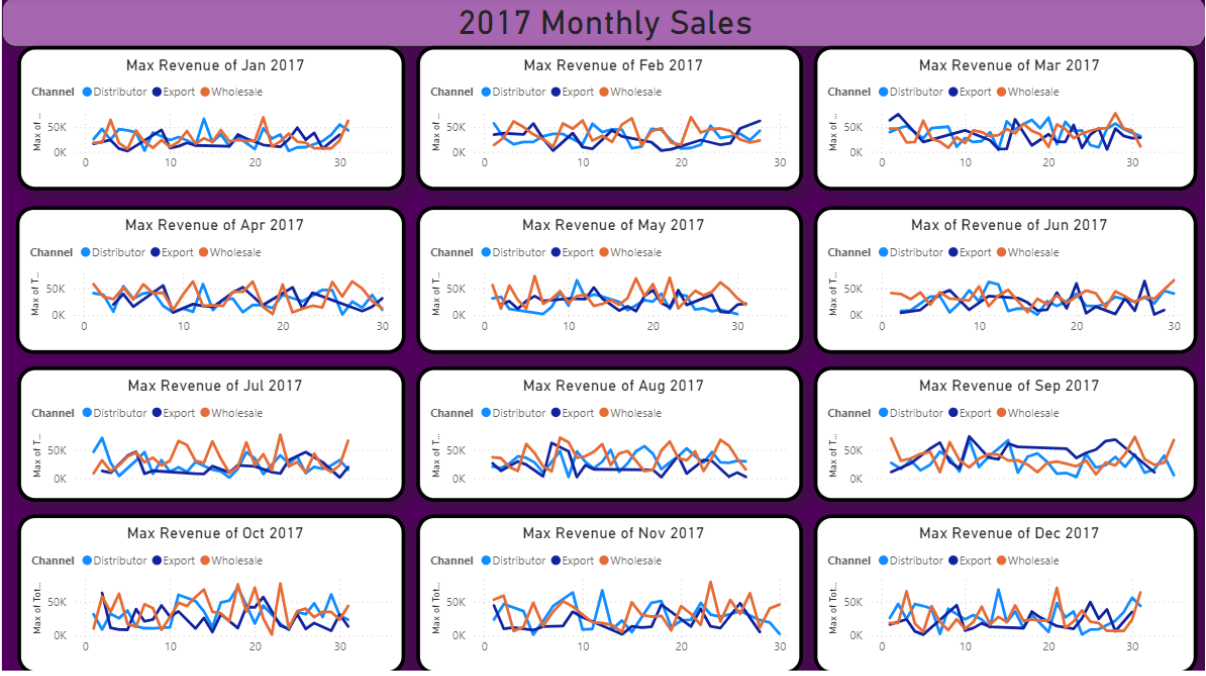

The dashboard page shown, as its layout file describes it:
{"tool":"powerbi","page":{"name":"Page 3","canvas":[1280,720],"ordinal":2},"visuals":[{"type":"textbox","title":"2017 Monthly Sales","box":[0,0,1279.4,52.9],"z":0},{"type":"lineChart","title":"Max Revenue of Mar 2017","fields":{"Series":["Sales2017_Mar.Channel"],"Category":["Sales2017_Mar.OrderDate.Variation.Date Hierarchy.Day"],"Y":["Max(Sales2017_Mar.Total Revenue)"]},"box":[861.9,52.3,407.2,153.7],"z":1000},{"type":"lineChart","title":"Max Revenue of Feb 2017","fields":{"Category":["Sales2017_Feb.OrderDate.Variation.Date Hierarchy.Day"],"Y":["Max(Sales2017_Feb.Total Revenue)"],"Series":["Sales2017_Feb.Channel"]},"box":[439.9,52.3,410.5,153.7],"z":2000},{"type":"lineChart","title":"Max Revenue of Jan 2017","fields":{"Category":["Sales2017_Jan.OrderDate.Variation.Date Hierarchy.Day"],"Y":["Max(Sales2017_Jan.Total Revenue)"],"Series":["Sales2017_Jan.Channel"]},"box":[16.4,52.3,412.1,153.7],"z":3000},{"type":"lineChart","title":"Max Revenue of Apr 2017","fields":{"Series":["Sales2017_Apr.Channel"],"Y":["Max(Sales2017_Apr.Total Revenue)"],"Category":["Sales2017_Apr.OrderDate.Variation.Date Hierarchy.Day"]},"box":[14.7,222.4,413.8,157],"z":4000},{"type":"lineChart","title":"Max Revenue of May 2017","fields":{"Series":["Sales2017_May.Channel"],"Y":["Max(Sales2017_May.Total Revenue)"],"Category":["Sales2017_May.OrderDate.Variation.Date Hierarchy.Day"]},"box":[439.9,222.4,410.5,157],"z":5000},{"type":"lineChart","title":"Max of Revenue of Jun 2017","fields":{"Series":["Sales2017_Jun.Channel"],"Y":["Max(Sales2017_Jun.Total Revenue)"],"Category":["Sales2017_Jun.OrderDate.Variation.Date Hierarchy.Day"]},"box":[861.9,222.4,407.2,157],"z":6000},{"type":"lineChart","title":"Max Revenue of Jul 2017","fields":{"Series":["Sales2017_Jul.Channel"],"Y":["Max(Sales2017_Jul.Total Revenue)"],"Category":["Sales2017_Jul.OrderDate.Variation.Date Hierarchy.Day"]},"box":[16.4,392.5,412.1,143.9],"z":7000},{"type":"lineChart","title":"Max Revenue of Aug 2017","fields":{"Category":["Sales2017_Aug.OrderDate.Variation.Date Hierarchy.Day"],"Y":["Max(Sales2017_Aug.Total Revenue)"],"Series":["Sales2017_Aug.Channel"]},"box":[439.9,392.5,410.5,143.9],"z":8000},{"type":"lineChart","title":"Max Revenue of Sep 2017","fields":{"Series":["Sales2017_Sep.Channel"],"Y":["Max(Sales2017_Sep.Total Revenue)"],"Category":["Sales2017_Sep.OrderDate.Variation.Date Hierarchy.Day"]},"box":[861.9,392.5,407.2,143.9],"z":9000},{"type":"lineChart","title":"Max Revenue of Oct 2017","fields":{"Series":["Sales2017_Oct.Channel"],"Y":["Max(Sales2017_Oct.Total Revenue)"],"Category":["Sales2017_Oct.OrderDate.Variation.Date Hierarchy.Day"]},"box":[16.4,549.5,412.1,170.1],"z":10000},{"type":"lineChart","title":"Max Revenue of Nov 2017","fields":{"Category":["Sales2017_Nov.OrderDate.Variation.Date Hierarchy.Day"],"Y":["Max(Sales2017_Nov.Total Revenue)"],"Series":["Sales2017_Nov.Channel"]},"box":[439.9,549.5,410.5,170.1],"z":11000},{"type":"lineChart","title":"Max Revenue of Dec 2017","fields":{"Category":["Sales2017_Jan.OrderDate.Variation.Date Hierarchy.Day"],"Y":["Max(Sales2017_Jan.Total Revenue)"],"Series":["Sales2017_Jan.Channel"]},"box":[861.9,549.5,407.2,170.1],"z":12000}]}

Visuals, with their boxes in screenshot pixels (x1, y1, x2, y2), scaled from the page's 1280x720 canvas onto the 1206x676 screenshot:
"2017 Monthly Sales" textbox: [0, 0, 1205, 50]
"Max Revenue of Mar 2017" lineChart: [812, 49, 1196, 193]
"Max Revenue of Feb 2017" lineChart: [414, 49, 801, 193]
"Max Revenue of Jan 2017" lineChart: [15, 49, 404, 193]
"Max Revenue of Apr 2017" lineChart: [14, 209, 404, 356]
"Max Revenue of May 2017" lineChart: [414, 209, 801, 356]
"Max of Revenue of Jun 2017" lineChart: [812, 209, 1196, 356]
"Max Revenue of Jul 2017" lineChart: [15, 369, 404, 504]
"Max Revenue of Aug 2017" lineChart: [414, 369, 801, 504]
"Max Revenue of Sep 2017" lineChart: [812, 369, 1196, 504]
"Max Revenue of Oct 2017" lineChart: [15, 516, 404, 675]
"Max Revenue of Nov 2017" lineChart: [414, 516, 801, 675]
"Max Revenue of Dec 2017" lineChart: [812, 516, 1196, 675]
